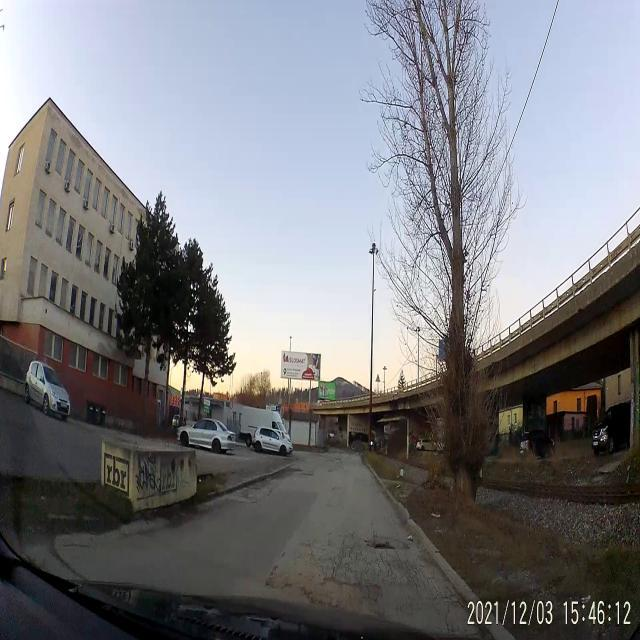Pothole: (370, 536, 396, 556)
